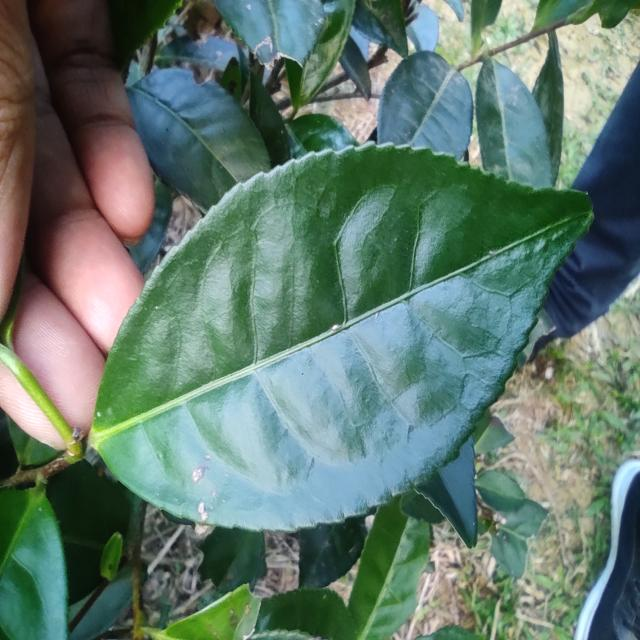Category C 4-7 days: (39, 101, 619, 553)
